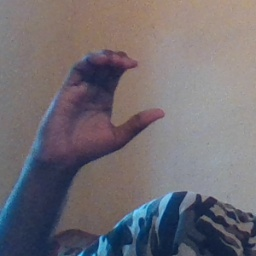C: (85, 46, 172, 153)
